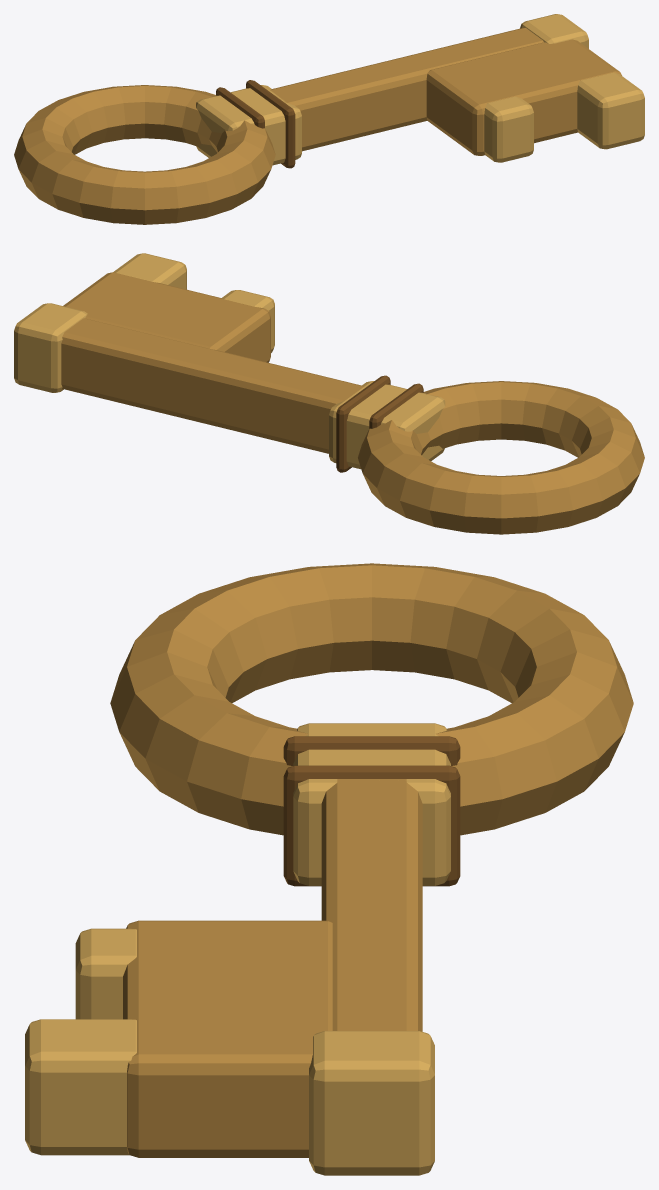
Rendered from ExitKey.glb.
3 renders of one model, top to bottom at view 1: azimuth 30°, elevation 25°; view 2: azimuth 150°, elevation 25°; view 3: azimuth 270°, elevation 25°, orthographic. The views are drawn at different scales.
Visible parts, largest first — view 1: Open_Bow, Bit_Spine, Shaft, Tooth_Long, Bow_Collar, Tooth_Short, Tip, Collar_Ridge.001, Collar_Ridge; view 2: Open_Bow, Shaft, Bit_Spine, Tip, Bow_Collar, Tooth_Long, Collar_Ridge.001, Tooth_Short, Collar_Ridge; view 3: Open_Bow, Bit_Spine, Shaft, Tip, Tooth_Long, Bow_Collar, Collar_Ridge.001, Tooth_Short, Collar_Ridge.
Boxes of the visible parts, <box> form: Open_Bow: <box>14,85,275,224</box>; Bit_Spine: <box>426,39,621,155</box>; Shaft: <box>270,28,543,151</box>; Tooth_Long: <box>577,72,644,149</box>; Bow_Collar: <box>196,85,301,165</box>; Tooth_Short: <box>484,96,533,162</box>; Tip: <box>520,14,588,48</box>; Collar_Ridge.001: <box>246,80,295,168</box>; Collar_Ridge: <box>216,87,264,128</box>; Open_Bow: <box>358,381,644,534</box>; Shaft: <box>61,318,363,453</box>; Bit_Spine: <box>63,272,270,362</box>; Tip: <box>14,303,87,392</box>; Bow_Collar: <box>329,381,445,469</box>; Tooth_Long: <box>113,253,186,289</box>; Collar_Ridge.001: <box>336,375,390,472</box>; Tooth_Short: <box>222,290,274,352</box>; Collar_Ridge: <box>369,383,423,428</box>; Open_Bow: <box>110,563,633,835</box>; Bit_Spine: <box>123,920,332,1157</box>; Shaft: <box>321,779,422,1031</box>; Tip: <box>309,1031,434,1175</box>; Tooth_Long: <box>25,1019,136,1155</box>; Bow_Collar: <box>293,723,450,885</box>; Collar_Ridge.001: <box>283,765,460,886</box>; Tooth_Short: <box>75,928,136,1019</box>; Collar_Ridge: <box>283,736,460,765</box>.
Bounding box in the file's own units: 1.99 × 0.21 × 0.965.
